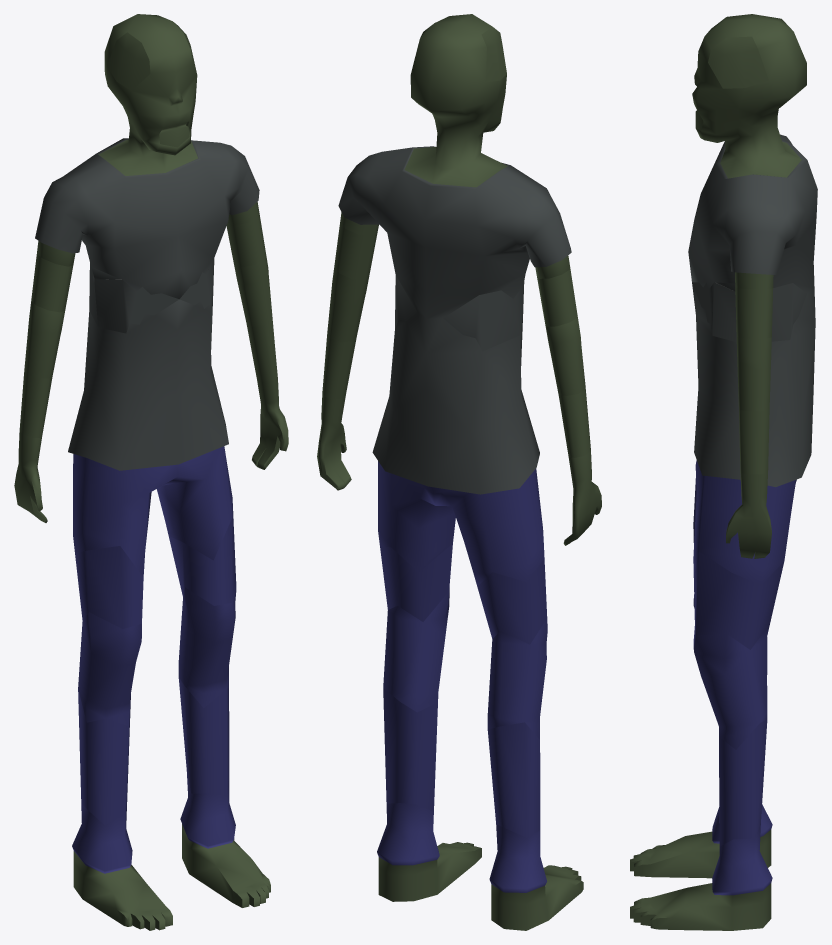
Rendered from zombie.fbx.
The picture shows the model from 3 angles, left to right: view 1: azimuth 30°, elevation 25°; view 2: azimuth 150°, elevation 25°; view 3: azimuth 270°, elevation 25°; orthographic projection. The views are drawn at different scales.
Parts seen in each view (by area): view 1: base, rightLegBot, rightLegTop, leftLegBot, leftLegTop, torsoCoverRight, rightArmTop, right, rightArmBot, leftArmTop, keftArmBot, torsoCoverLeft; view 2: base, leftLegBot, rightLegBot, rightLegTop, leftLegTop, torsoCoverRight, leftArmTop, rightArmTop, rightArmBot, keftArmBot, right, torsoCoverLeft; view 3: base, leftLegTop, leftLegBot, torsoCoverLeft, left, keftArmBot, leftArmTop.
Boxes of the visible parts, bbox=[...] form: base: bbox=[14, 14, 288, 930]; rightLegBot: bbox=[78, 689, 130, 824]; rightLegTop: bbox=[75, 546, 143, 628]; leftLegBot: bbox=[178, 677, 229, 795]; leftLegTop: bbox=[168, 515, 235, 605]; torsoCoverRight: bbox=[89, 263, 178, 333]; rightArmTop: bbox=[31, 254, 73, 312]; right: bbox=[107, 32, 150, 90]; rightArmBot: bbox=[19, 371, 52, 437]; leftArmTop: bbox=[226, 207, 265, 267]; keftArmBot: bbox=[246, 317, 277, 381]; torsoCoverLeft: bbox=[179, 258, 214, 311]; base: bbox=[317, 14, 601, 930]; leftLegBot: bbox=[383, 688, 437, 811]; rightLegBot: bbox=[487, 722, 540, 837]; rightLegTop: bbox=[477, 558, 547, 644]; leftLegTop: bbox=[380, 543, 452, 621]; torsoCoverRight: bbox=[443, 282, 524, 351]; leftArmTop: bbox=[334, 221, 377, 279]; rightArmTop: bbox=[537, 269, 577, 326]; rightArmBot: bbox=[558, 385, 590, 457]; keftArmBot: bbox=[322, 333, 356, 399]; right: bbox=[481, 26, 506, 82]; torsoCoverLeft: bbox=[395, 275, 416, 328]; base: bbox=[630, 14, 817, 930]; leftLegTop: bbox=[693, 551, 784, 649]; leftLegBot: bbox=[719, 719, 767, 846]; torsoCoverLeft: bbox=[692, 282, 806, 341]; left: bbox=[708, 36, 768, 88]; keftArmBot: bbox=[739, 408, 769, 474]; leftArmTop: bbox=[735, 287, 773, 338].
Size of the model in its own units: 3.84 by 12.22 by 2.38.
